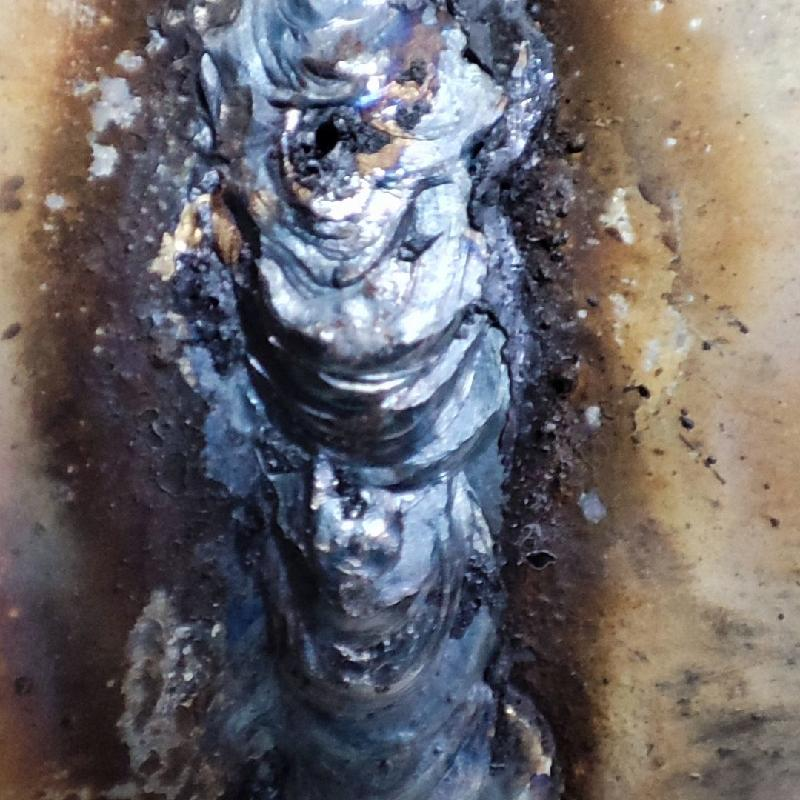Surface_pores: (286, 107, 383, 186)
